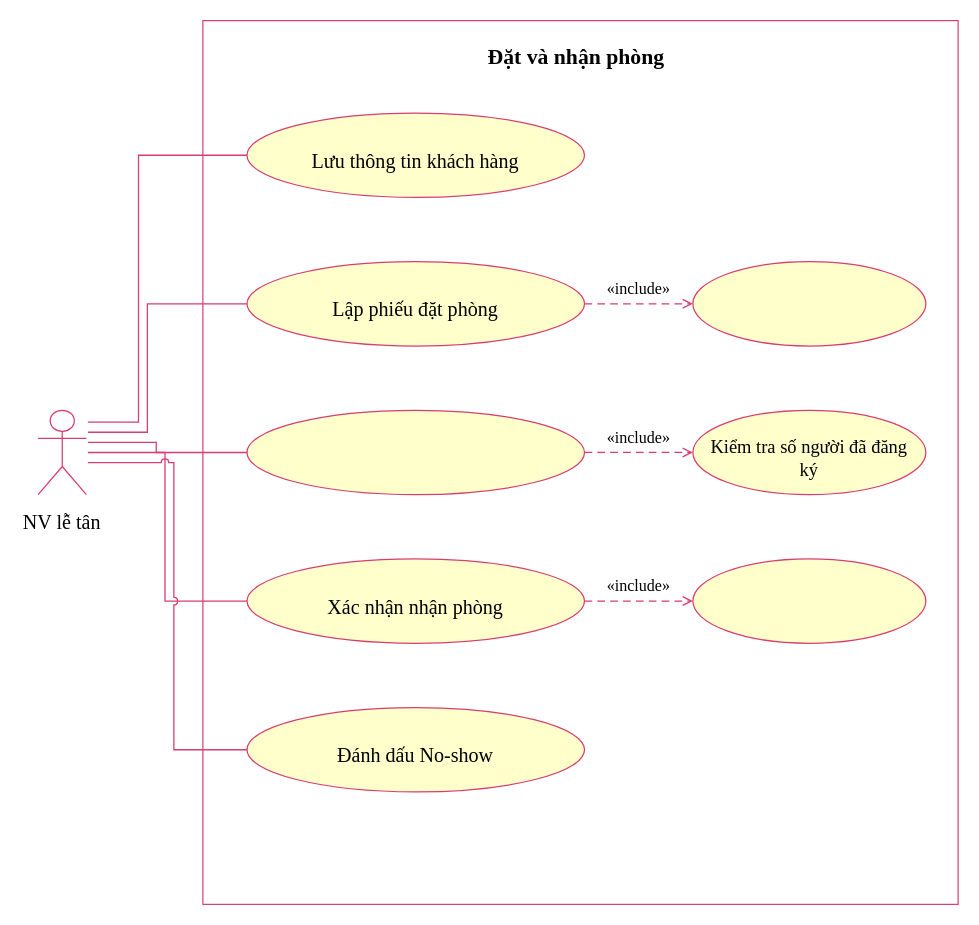
Some shapes in this 979 by 925 pixel diagram are drawn without their labels. The centre of each missing label's shape, as x and y in pixels:
Ghi người lưu trú: (x=415, y=452)
Kiểm tra phiếu và phòng: (x=809, y=600)
Kiểm tra sức chứa và lịch đặt: (x=809, y=303)
